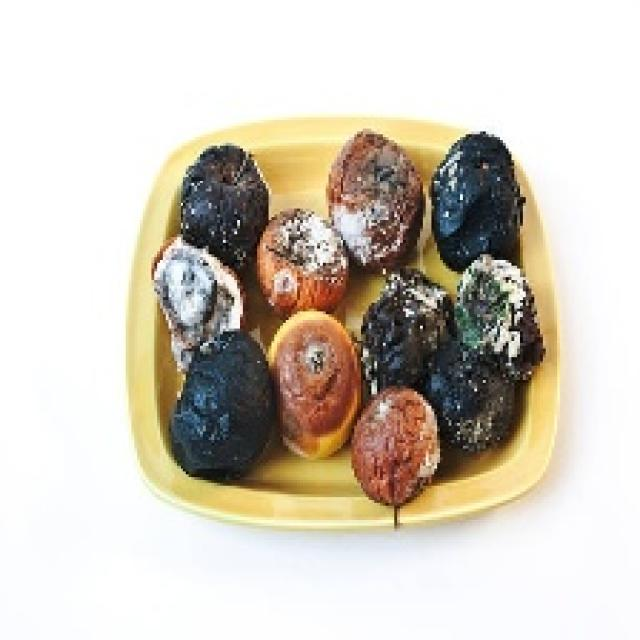rotten_apple: (179, 337, 272, 475), (273, 316, 359, 452), (333, 134, 422, 248), (436, 135, 516, 252), (183, 147, 270, 249), (364, 394, 442, 506), (364, 272, 448, 376), (263, 214, 344, 309), (458, 259, 536, 356)
